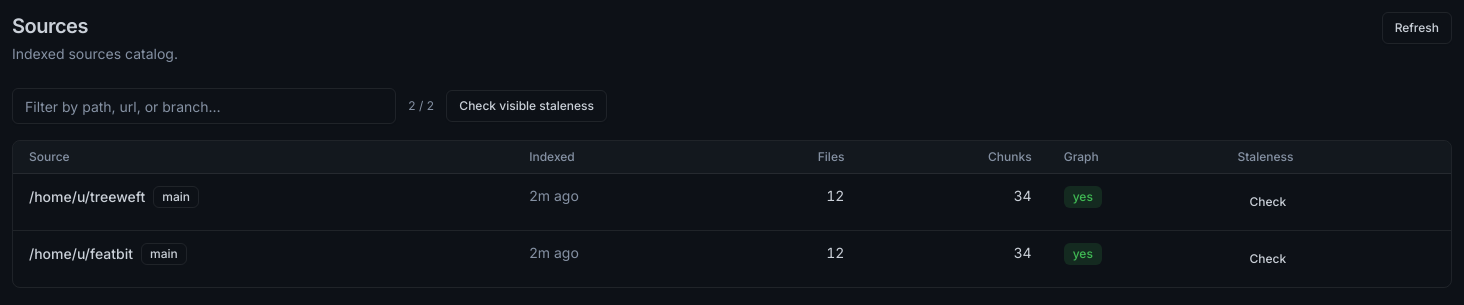
Test case: SourcesPage › narrows visible rows as the filter input changes
Expected: the text "/home/u/treeweft" is shown, [29,187,145,207]
Expected: the text "/home/u/featbit" is shown, [29,244,133,264]
Type "featbit" into the search field named "Filter sources" at (204, 106), box [12,88,396,124]
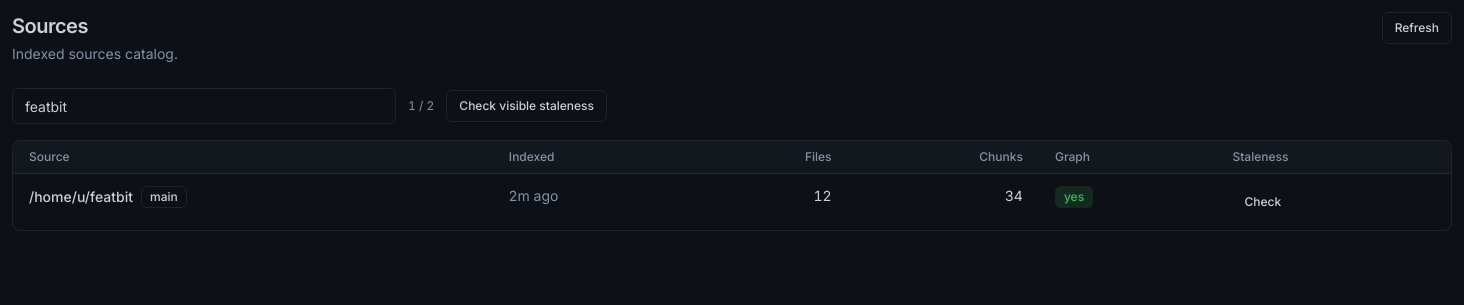
Expected: the text "/home/u/featbit" is shown, [29,187,133,207]
Expected: the text "/home/u/treeweft" is gone
